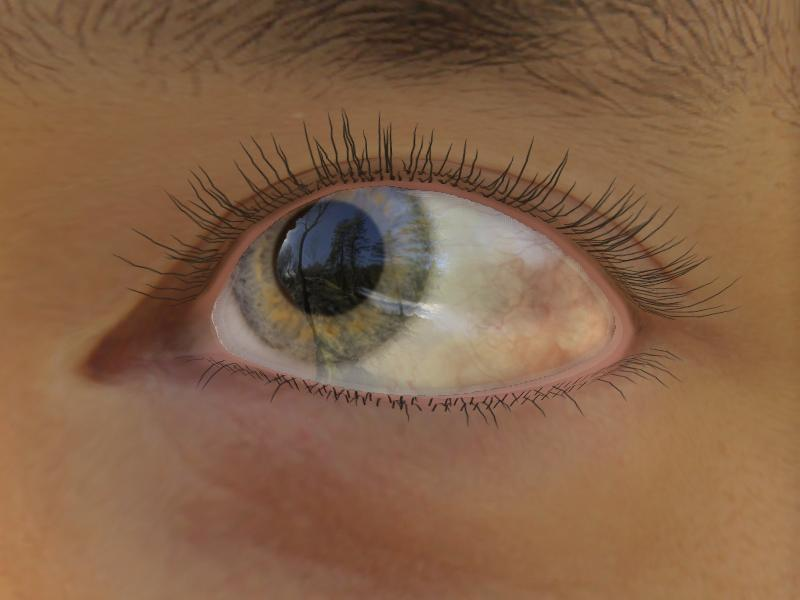eye: (231, 183, 431, 362)
